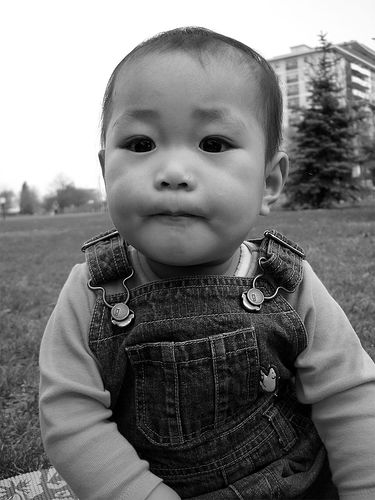without_mask: (91, 45, 298, 270)
